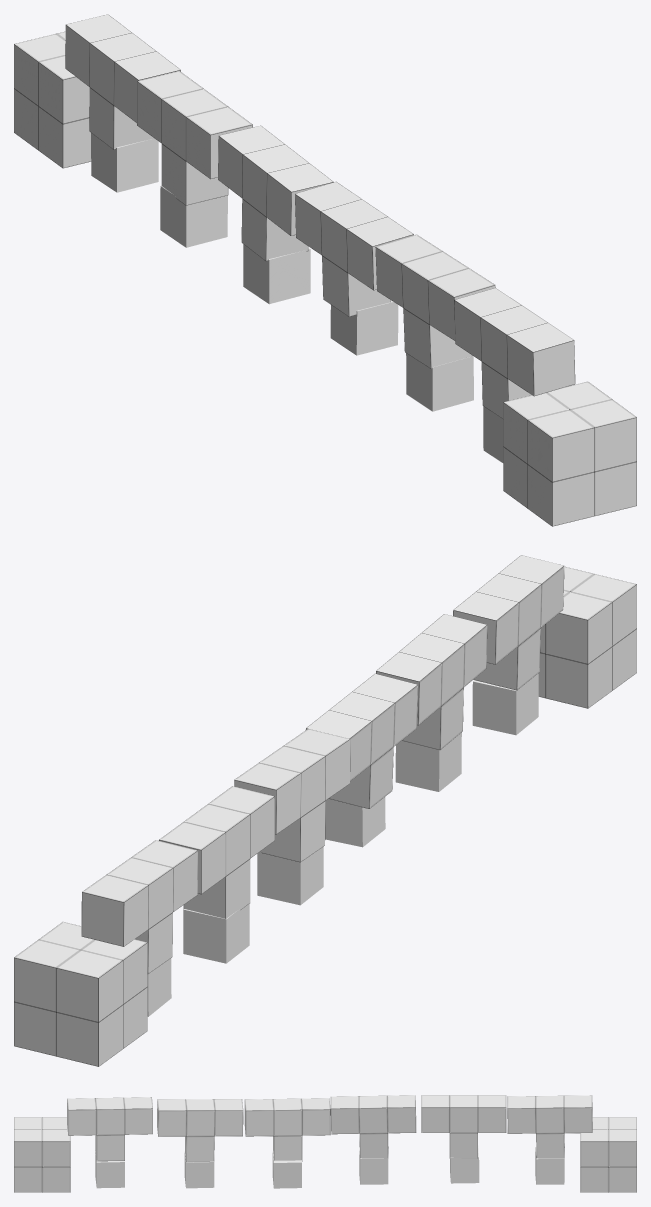
3 renders of one model, top to bottom at view 1: azimuth 30°, elevation 25°; view 2: azimuth 150°, elevation 25°; view 3: azimuth 270°, elevation 25°, orthographic. The views are drawn at different scales.
Parts seen in each view (by area): view 1: Plane/BasicEnvironment/StartCube-1, GridTShape_12, GridTShape_12 (7), GridTShape_12 (4), GridTShape_12 (1), GridTShape_12 (6), GridTShape_12 (5), Plane/BasicEnvironment/StartCube-2, GridSmallCube_5 (5), GridSmallCube_5 (6), GridSmallCube_5 (1), GridSmallCube_5 (7) (+2 smaller); view 2: Plane/BasicEnvironment/StartCube-2, Plane/BasicEnvironment/StartCube-1, GridTShape_12 (5), GridTShape_12, GridTShape_12 (6), GridTShape_12 (7), GridTShape_12 (1), GridTShape_12 (4), GridSmallCube_5, GridSmallCube_5 (7), GridSmallCube_5 (6), GridSmallCube_5 (1) (+2 smaller); view 3: Plane/BasicEnvironment/StartCube-1, Plane/BasicEnvironment/StartCube-2, GridTShape_12 (1), GridTShape_12 (6), GridTShape_12, GridTShape_12 (4), GridTShape_12 (5), GridTShape_12 (7), GridSmallCube_5 (4), GridSmallCube_5 (1), GridSmallCube_5 (5), GridSmallCube_5 (+2 smaller).
Part boxes in pixels (bbox=[...]): Plane/BasicEnvironment/StartCube-1: bbox=[503, 381, 636, 526]; GridTShape_12: bbox=[454, 288, 575, 418]; GridTShape_12 (7): bbox=[137, 71, 252, 205]; GridTShape_12 (4): bbox=[295, 181, 413, 316]; GridTShape_12 (1): bbox=[375, 234, 495, 368]; GridTShape_12 (6): bbox=[218, 125, 333, 261]; GridTShape_12 (5): bbox=[65, 14, 180, 149]; Plane/BasicEnvironment/StartCube-2: bbox=[14, 31, 91, 168]; GridSmallCube_5 (5): bbox=[91, 133, 158, 192]; GridSmallCube_5 (6): bbox=[243, 244, 310, 304]; GridSmallCube_5 (1): bbox=[406, 353, 473, 411]; GridSmallCube_5 (7): bbox=[160, 185, 227, 247]; Plane/BasicEnvironment/StartCube-2: bbox=[14, 922, 147, 1066]; Plane/BasicEnvironment/StartCube-1: bbox=[538, 566, 636, 708]; GridTShape_12 (5): bbox=[81, 840, 197, 973]; GridTShape_12: bbox=[453, 555, 564, 690]; GridTShape_12 (6): bbox=[234, 729, 350, 862]; GridTShape_12 (7): bbox=[159, 786, 274, 918]; GridTShape_12 (1): bbox=[376, 614, 487, 749]; GridTShape_12 (4): bbox=[306, 673, 417, 808]; GridSmallCube_5: bbox=[472, 673, 538, 735]; GridSmallCube_5 (7): bbox=[183, 904, 249, 963]; GridSmallCube_5 (6): bbox=[257, 847, 323, 905]; GridSmallCube_5 (1): bbox=[395, 732, 461, 791]; Plane/BasicEnvironment/StartCube-1: bbox=[14, 1117, 70, 1192]; Plane/BasicEnvironment/StartCube-2: bbox=[580, 1117, 636, 1192]; GridTShape_12 (1): bbox=[157, 1099, 243, 1162]; GridTShape_12 (6): bbox=[330, 1095, 416, 1158]; GridTShape_12: bbox=[67, 1097, 152, 1161]; GridTShape_12 (4): bbox=[244, 1098, 330, 1161]; GridTShape_12 (5): bbox=[507, 1095, 592, 1158]; GridTShape_12 (7): bbox=[421, 1095, 506, 1158]; GridSmallCube_5 (4): bbox=[272, 1151, 301, 1188]; GridSmallCube_5 (1): bbox=[184, 1151, 214, 1188]; GridSmallCube_5 (5): bbox=[535, 1147, 564, 1184]; GridSmallCube_5: bbox=[95, 1151, 124, 1188].
Bounding box in the file's own units: 0.2 × 0.3052 × 2.2.
